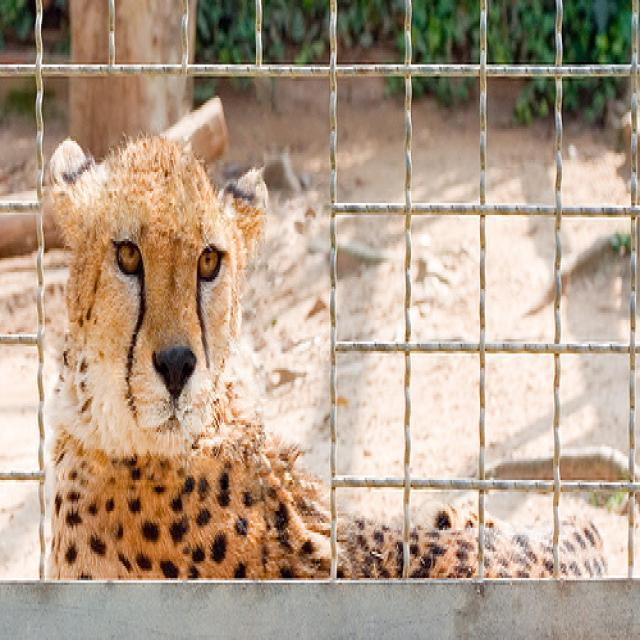Leopard: (46, 133, 606, 582)
